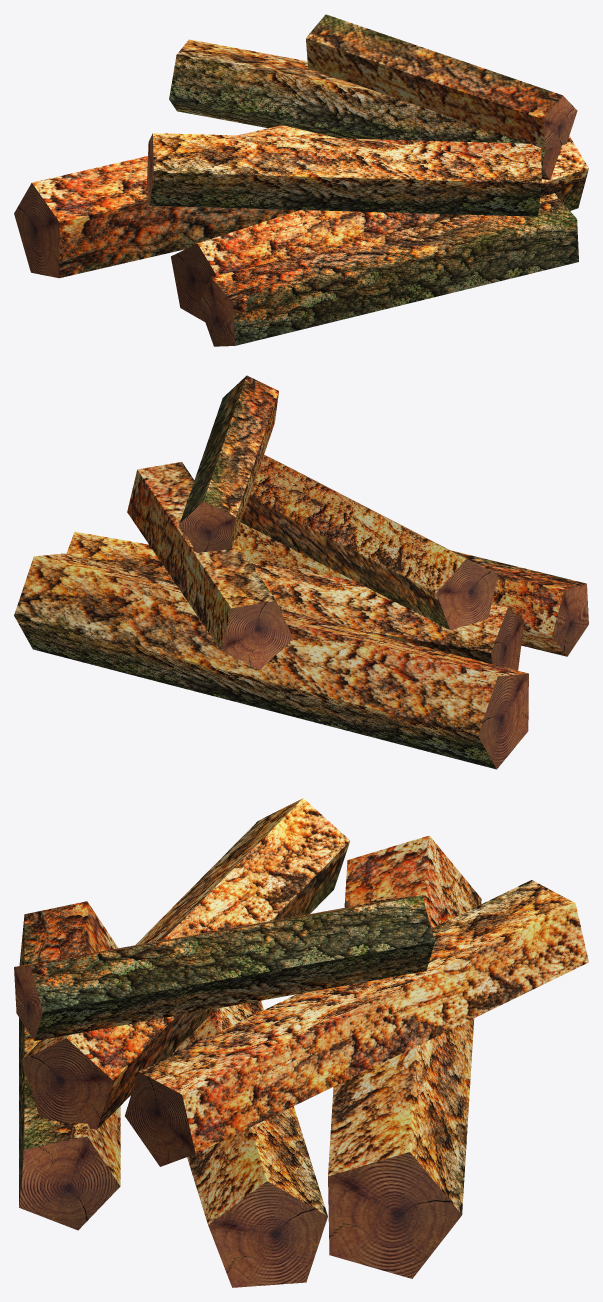
File: mm9_deco_logs.glb
The picture shows the model from 3 angles, top to bottom: view 1: azimuth 30°, elevation 25°; view 2: azimuth 150°, elevation 25°; view 3: azimuth 270°, elevation 25°; orthographic projection. The views are drawn at different scales.
Visible parts, largest first — view 1: Logs; view 2: Logs; view 3: Logs.
Boxes of the visible parts, x1,y1,x2,y2 form: Logs: (14, 14, 588, 346); Logs: (14, 375, 588, 769); Logs: (14, 798, 588, 1287).
Bounding box in the file's own units: 1.37 × 0.5194 × 1.02.
Materials: 1 (1 with a texture image).
